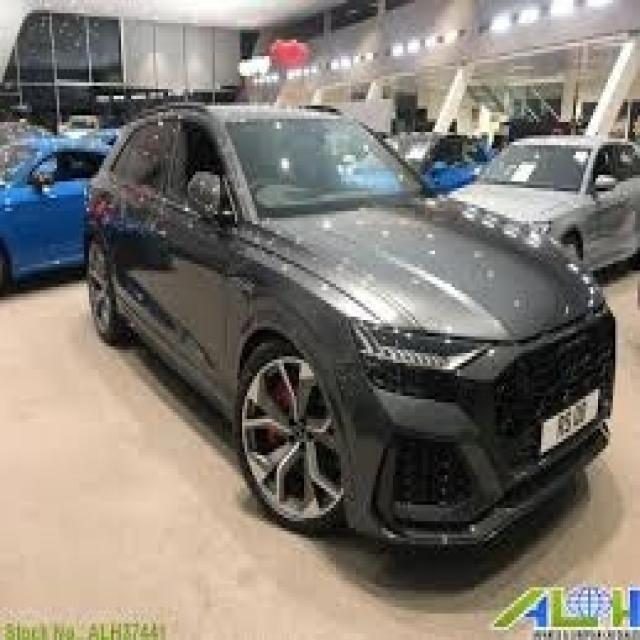black: (88, 107, 616, 553)
